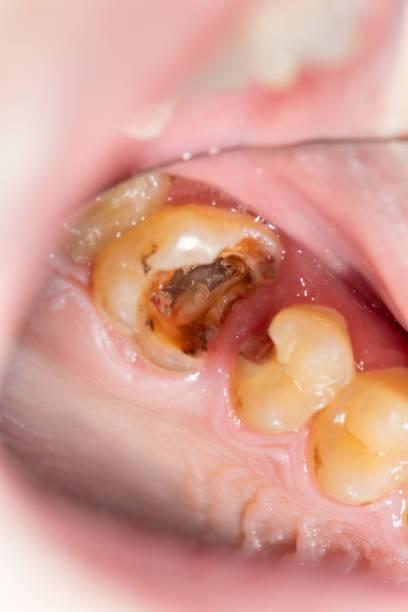Caries: (125, 232, 276, 357), (243, 309, 305, 402)
